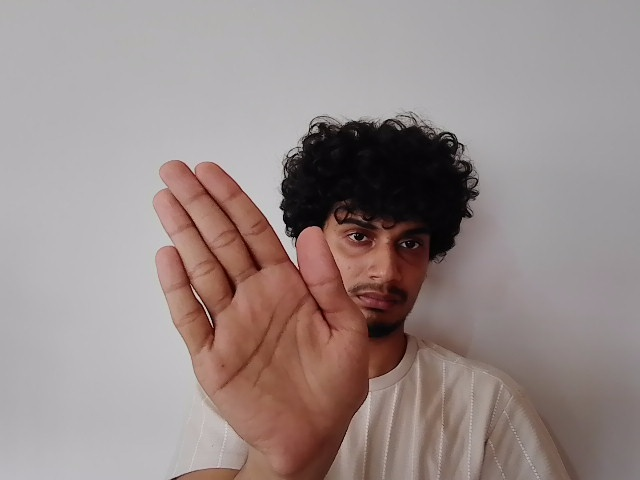hello: (148, 156, 374, 438)
